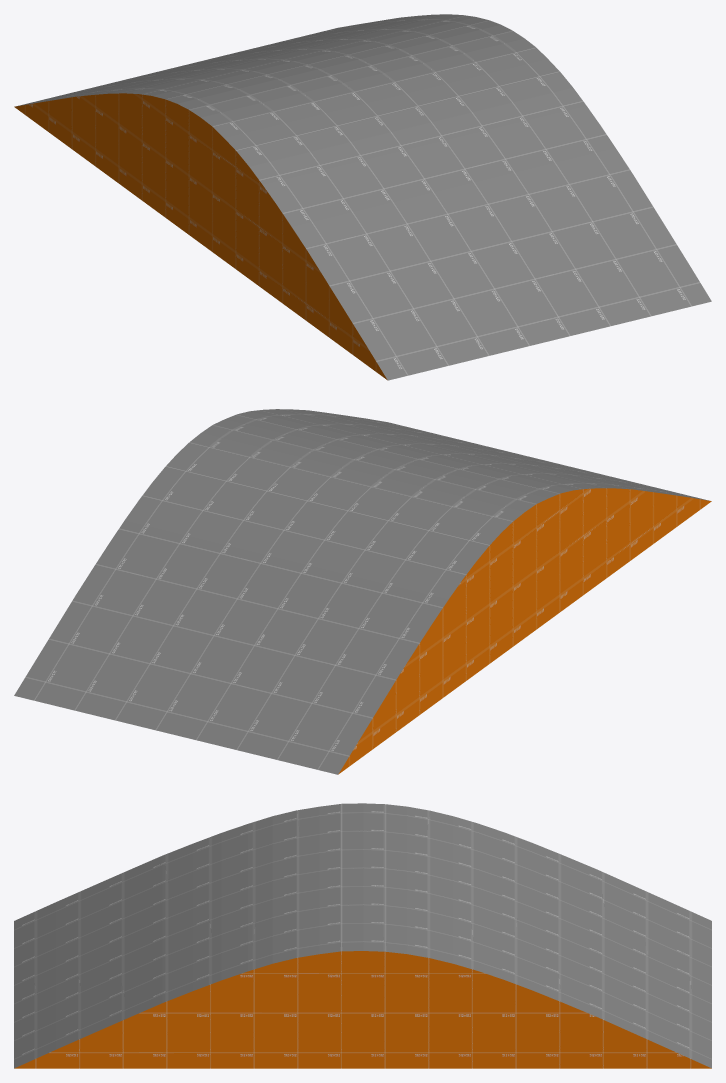
File: ramp.dae
The picture shows the model from 3 angles, top to bottom: view 1: azimuth 30°, elevation 25°; view 2: azimuth 150°, elevation 25°; view 3: azimuth 270°, elevation 25°; orthographic projection. The views are drawn at different scales.
Parts seen in each view (by area): view 1: BezierCurve; view 2: BezierCurve; view 3: BezierCurve.
Boxes of the visible parts, box(x1,y1,x2,y2) form: BezierCurve: box(14, 14, 711, 380); BezierCurve: box(14, 409, 711, 774); BezierCurve: box(14, 803, 711, 1068).
Bounding box in the file's own units: 8 × 15.99 × 2.97.
